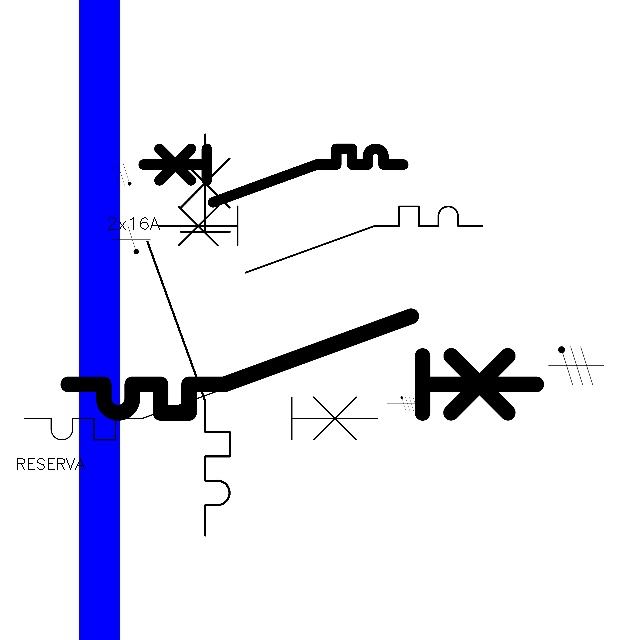interruptor_termomagnetico: (56, 304, 549, 425), (137, 124, 240, 546), (15, 358, 387, 449), (150, 198, 491, 281), (136, 142, 409, 208)
